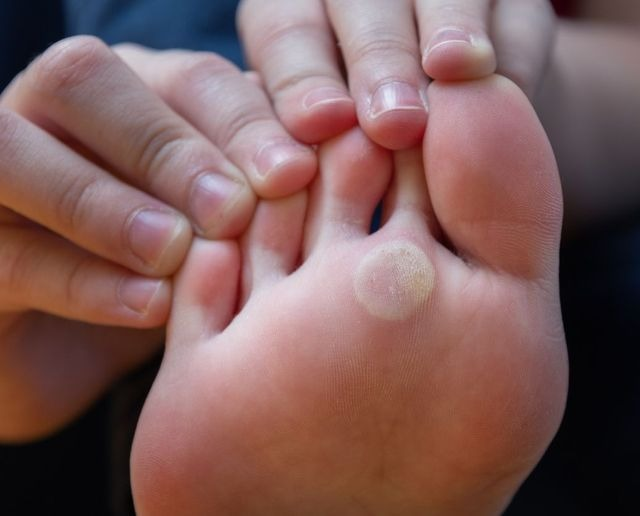Warts: (344, 232, 447, 334)
